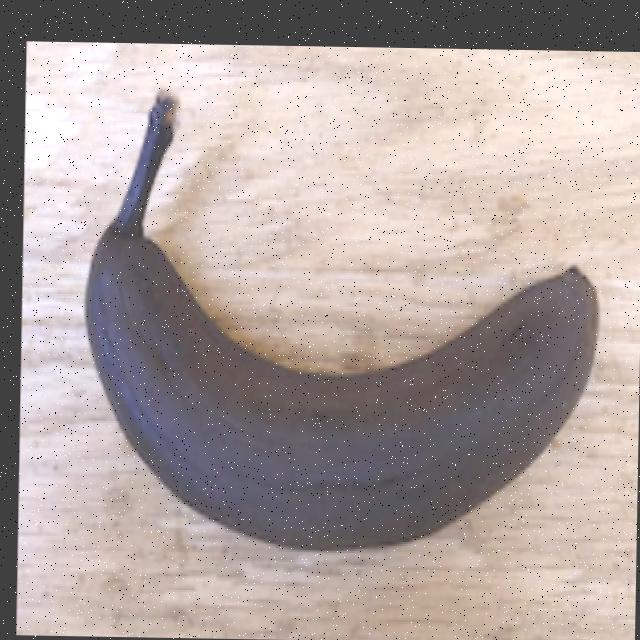Rotten: (62, 80, 618, 574)
